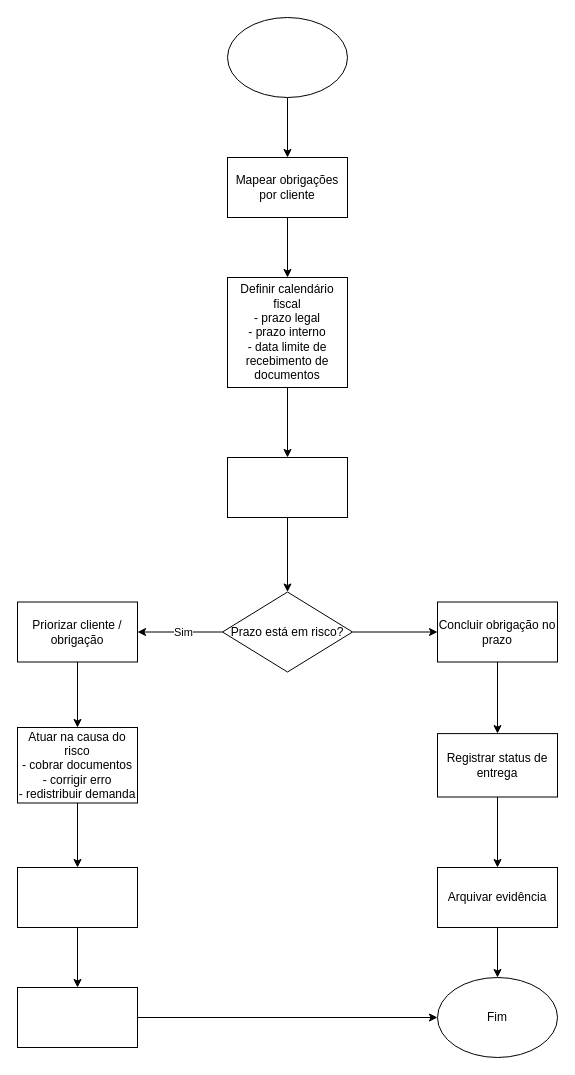
This 575x1075 diagram has some shape labels left out. Here are the shapes that lost their labels. From the top down, the box of each, then its label:
(226, 16, 348, 98): Inicio
(226, 456, 348, 518): Distribuir responsabilidades na equipe
(16, 866, 138, 928): Regularizar andamento
(16, 986, 138, 1048): Retornar ao acompanhamento
